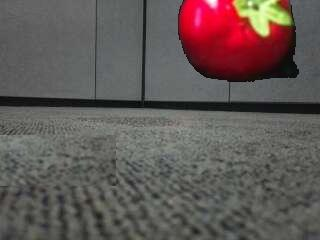Tomato: (179, 2, 299, 86)
